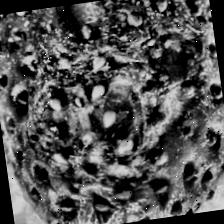Anthracnose Fruit Rot: (13, 43, 182, 196)
